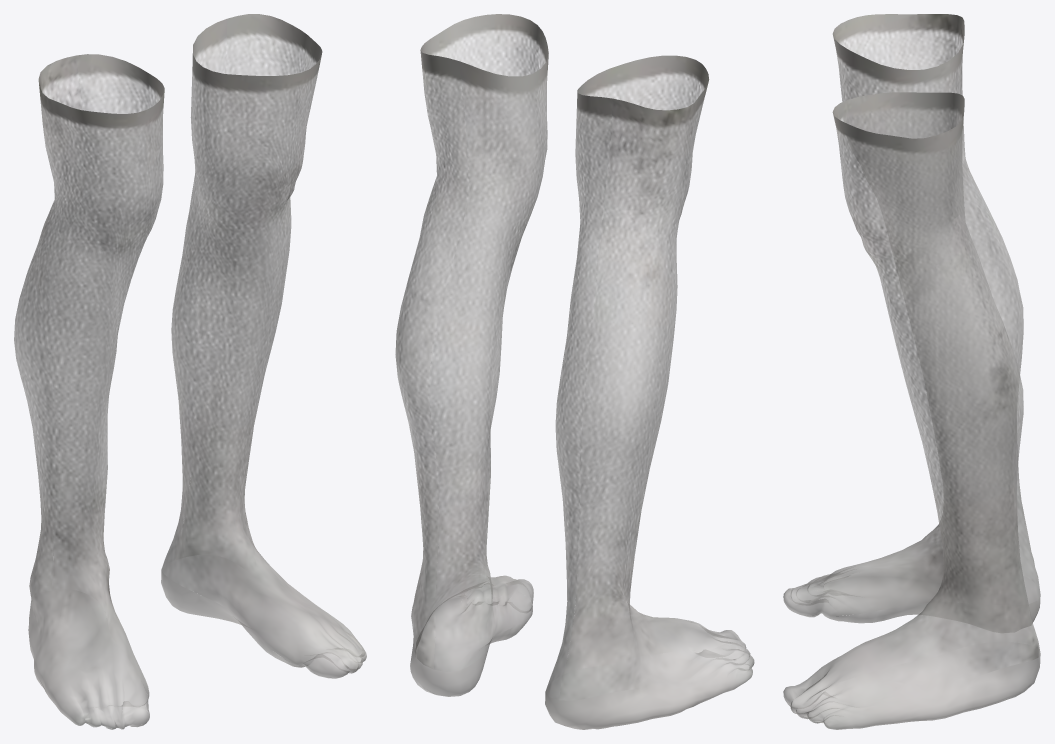
The model's file is ropa_long_white_cotton_socks.glb.
3 views of the same model, side by side, from view 1: azimuth 30°, elevation 25°; view 2: azimuth 150°, elevation 25°; view 3: azimuth 270°, elevation 25° (orthographic). The views are drawn at different scales.
Visible parts, largest first — view 1: Object_2; view 2: Object_2; view 3: Object_2.
Boxes of the visible parts, left/top/right/bottom form: Object_2: left=14, top=14, right=366, bottom=729; Object_2: left=395, top=14, right=754, bottom=729; Object_2: left=783, top=14, right=1040, bottom=729.
Bounding box in the file's own units: 0.3527 × 0.7 × 0.2736.
1 material, 1 textured.
